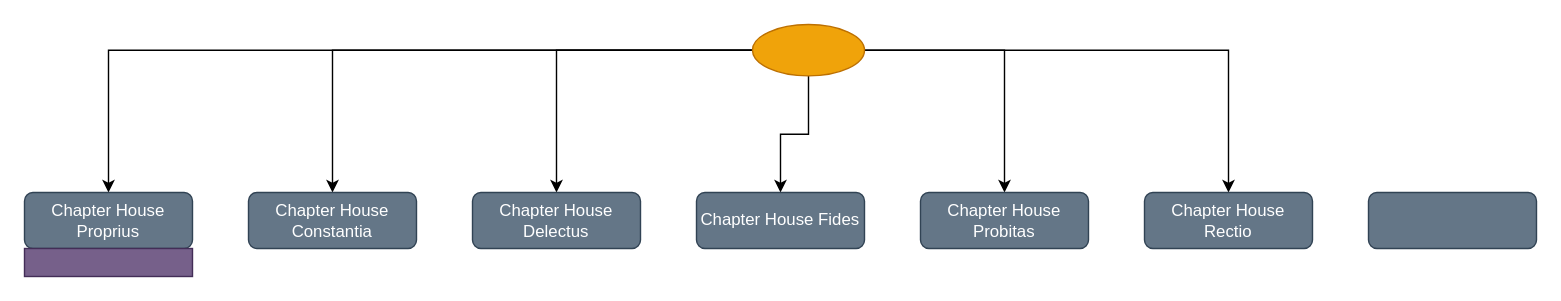
Image size: 1561x301. Some labels were removed from this diagram. The centre of each missing label's shape, as x and y in pixels:
"General: Yandee a'Huruuc" belongs at (x=107, y=261).
"King Arthur" belongs at (x=807, y=49).
"The King's Martial Citizenry" belongs at (x=1451, y=219).
